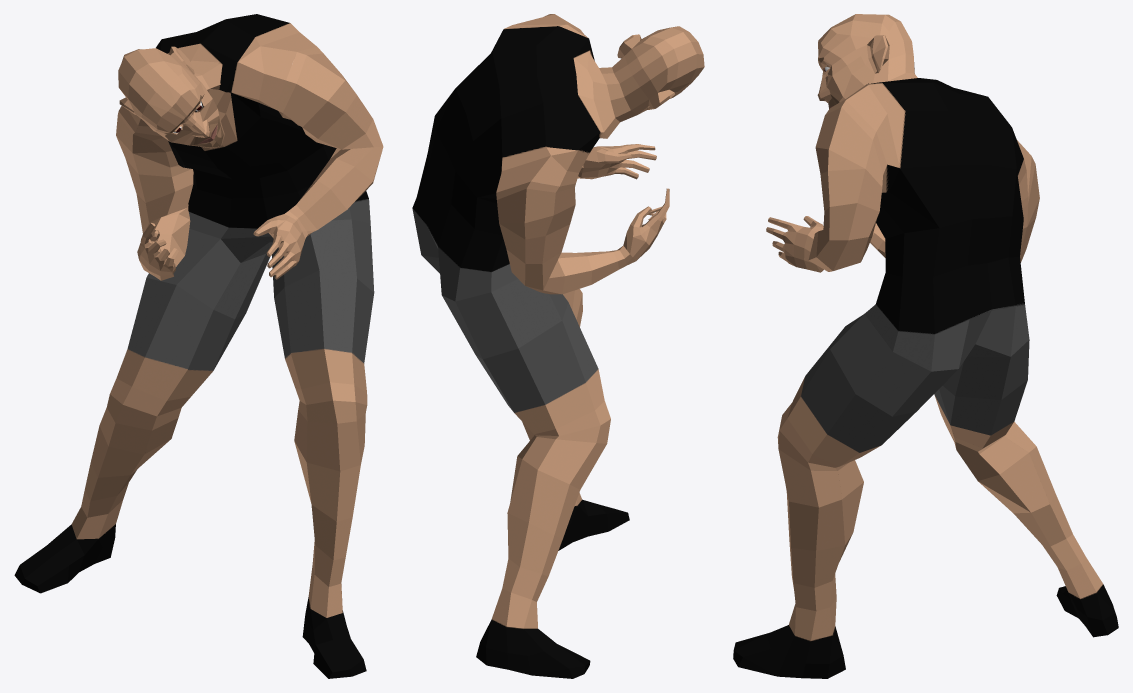
File: PlayerDead(9).obj
3 renders of one model, left to right at view 1: azimuth 30°, elevation 25°; view 2: azimuth 150°, elevation 25°; view 3: azimuth 270°, elevation 25°, orthographic. The views are drawn at different scales.
Parts seen in each view (by area): view 1: Plane002; view 2: Plane002; view 3: Plane002.
Part boxes in pixels (bbox=[...]): Plane002: bbox=[14, 14, 383, 678]; Plane002: bbox=[412, 14, 704, 678]; Plane002: bbox=[733, 14, 1118, 678].
Bounding box in the file's own units: 648 × 1429 × 851.
